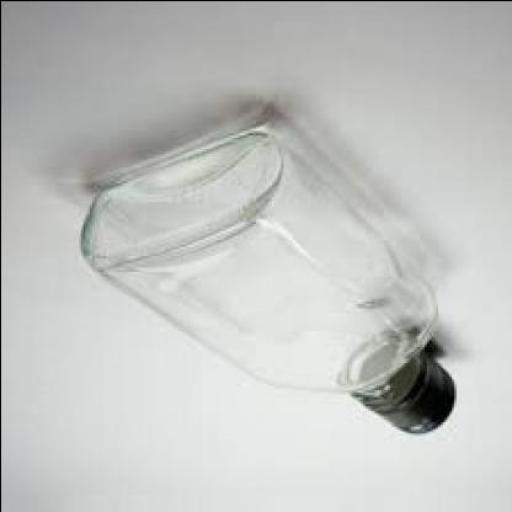glass: (73, 132, 430, 402)
metal: (352, 348, 454, 440)
